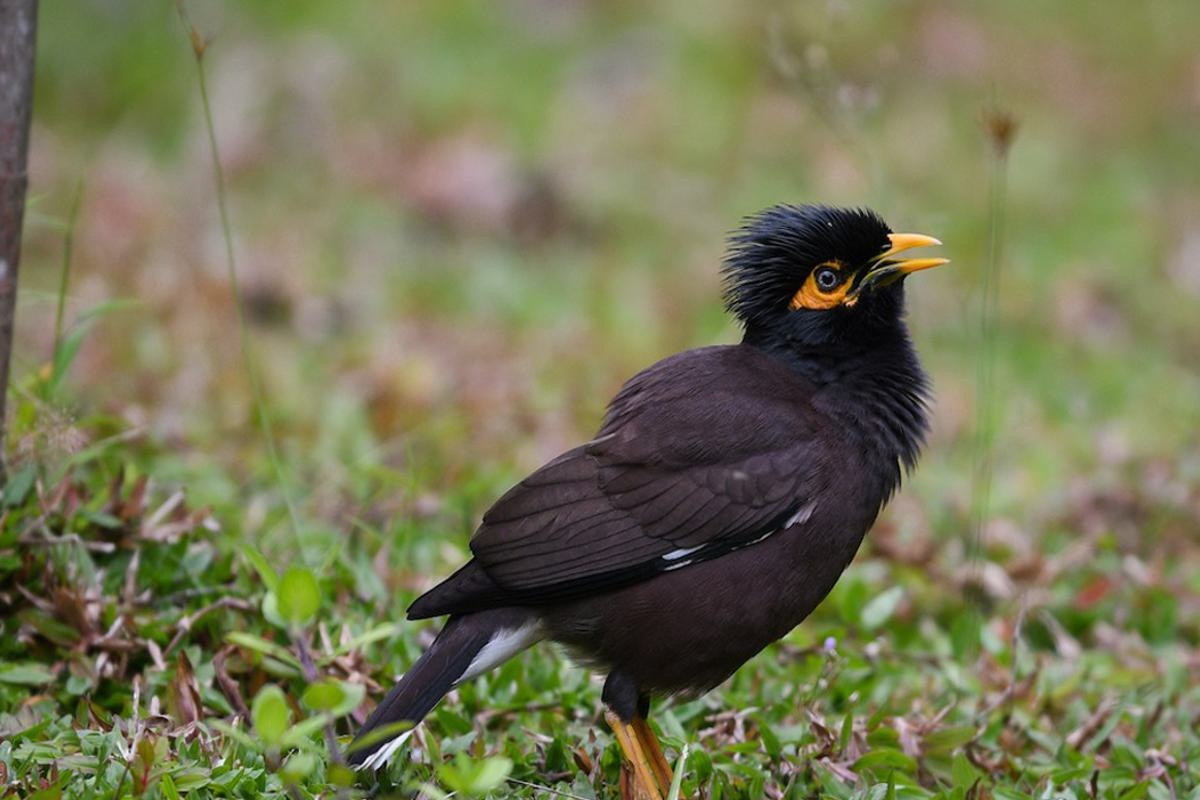myna: (418, 185, 974, 767)
